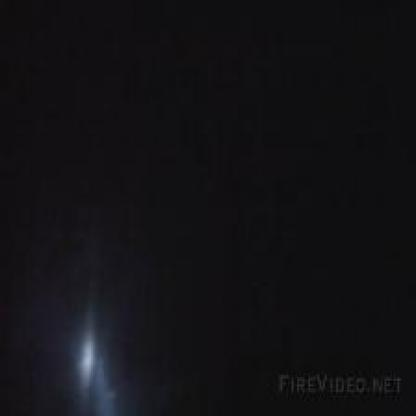other: (67, 325, 108, 395)
